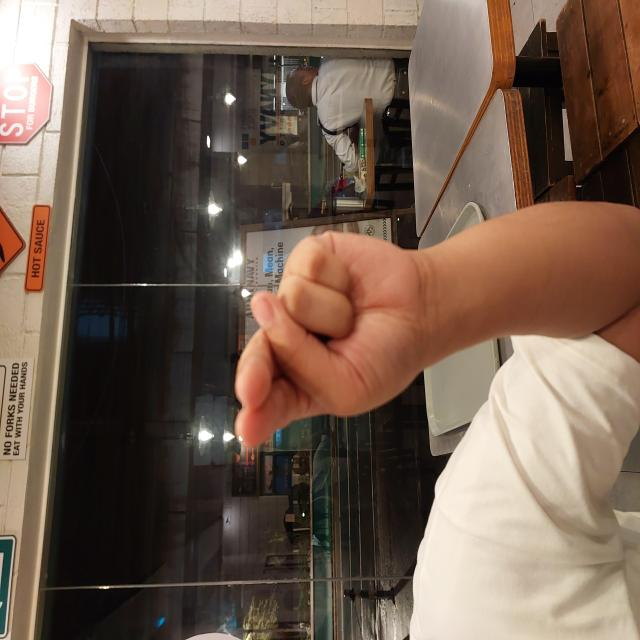N: (188, 233, 410, 425)
